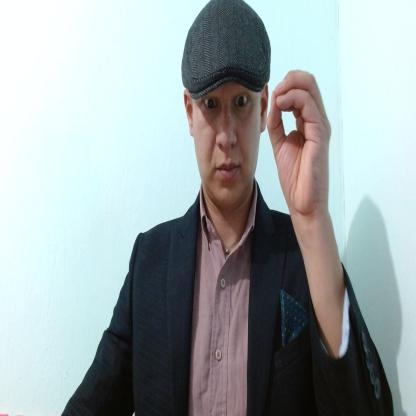O: (268, 67, 332, 214)
